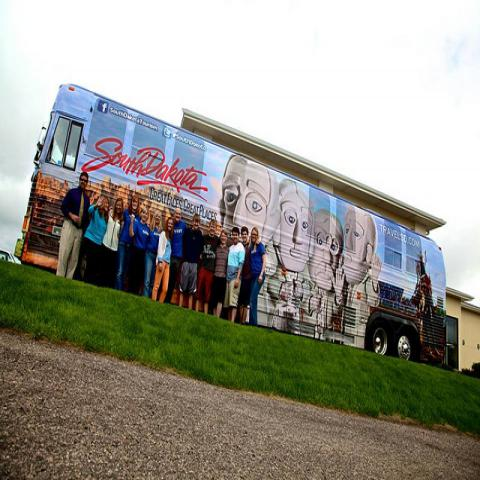bus: (14, 80, 448, 370)
car: (0, 248, 16, 264)
